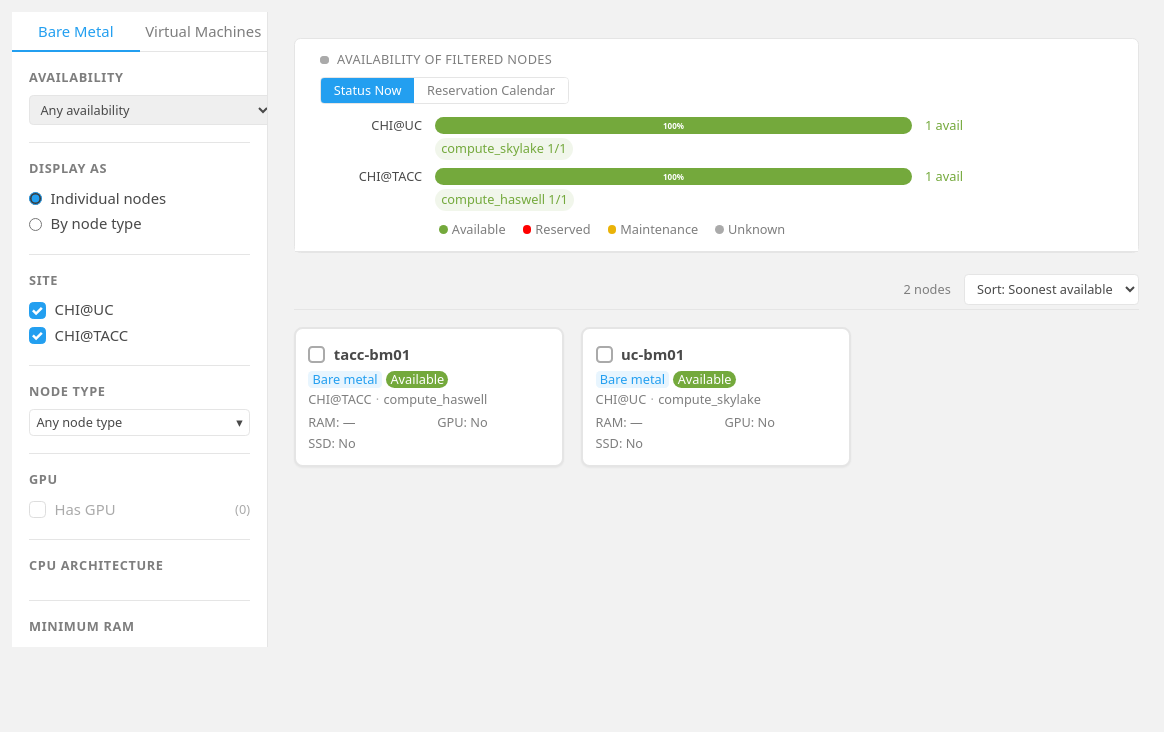
Scenario: DiscoveryPage › lists node types only for checked sites
Click the button "Any node type ▾": (140, 423) [29,409,250,436]
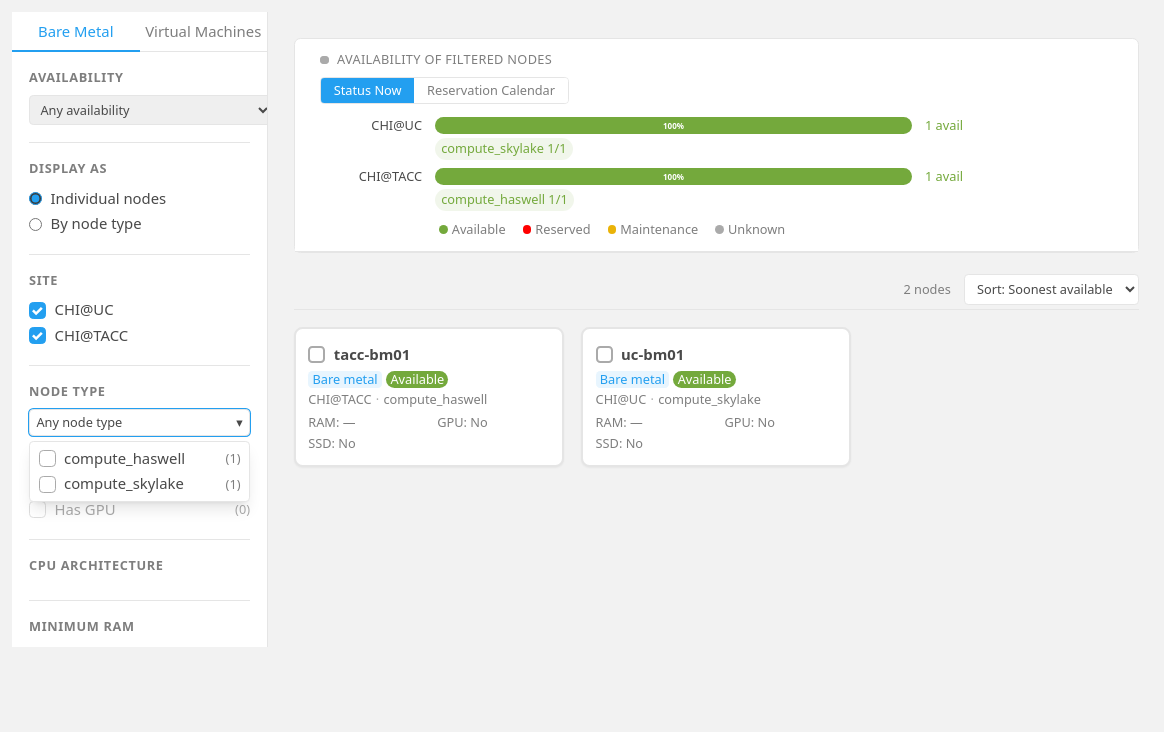
Check: the 3rd checkbox named "compute_haswell" is shown, box [38,450,56,467]
Click the 2nd checkbox named "CHI@TACC": (38, 336) [29,327,46,344]
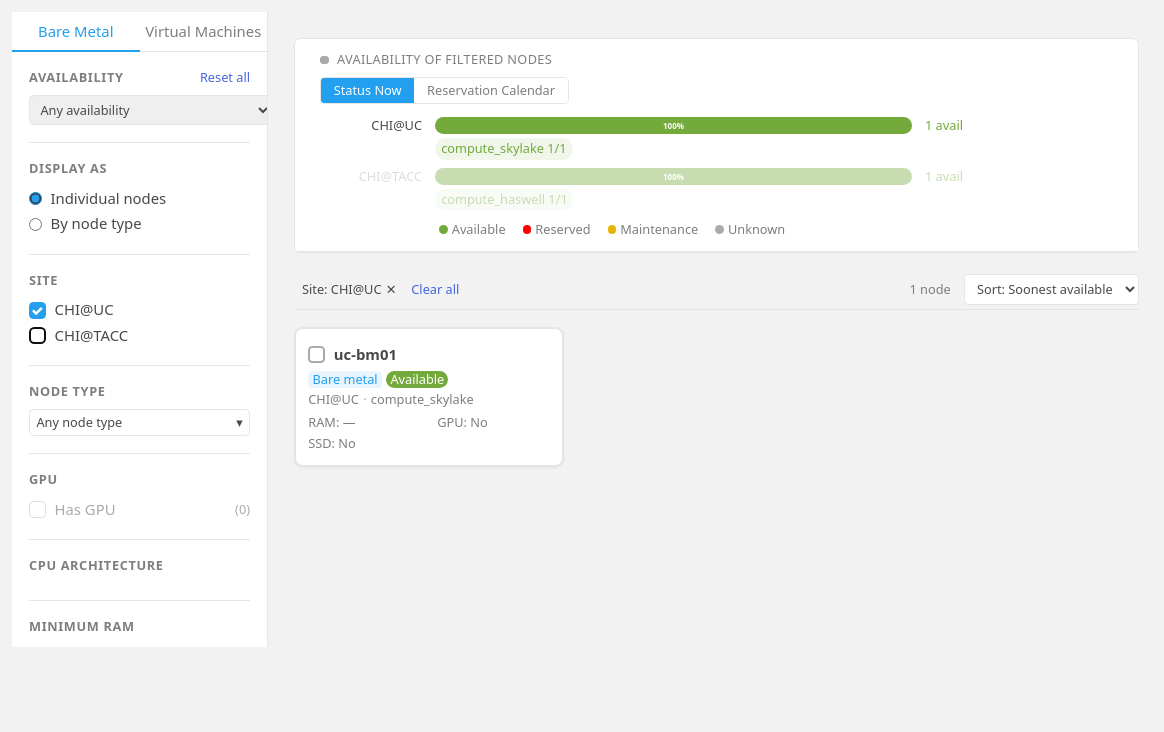
Click the button "Any node type ▾": (140, 423) [29,409,250,436]
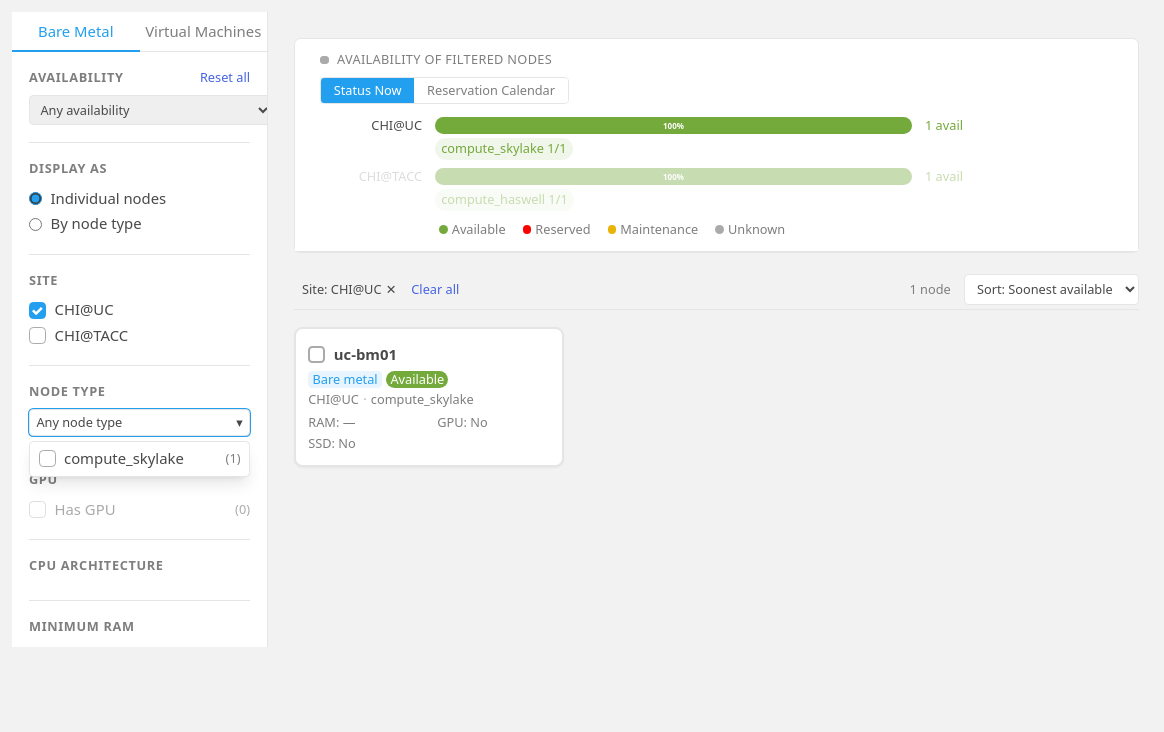
Check: the 3rd checkbox named "compute_skylake" is shown, box [38,450,56,467]
